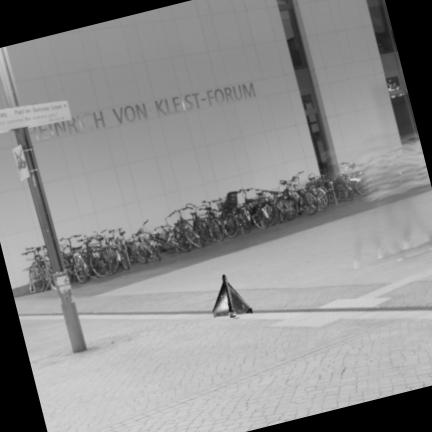Shahed: (213, 275, 252, 319)
